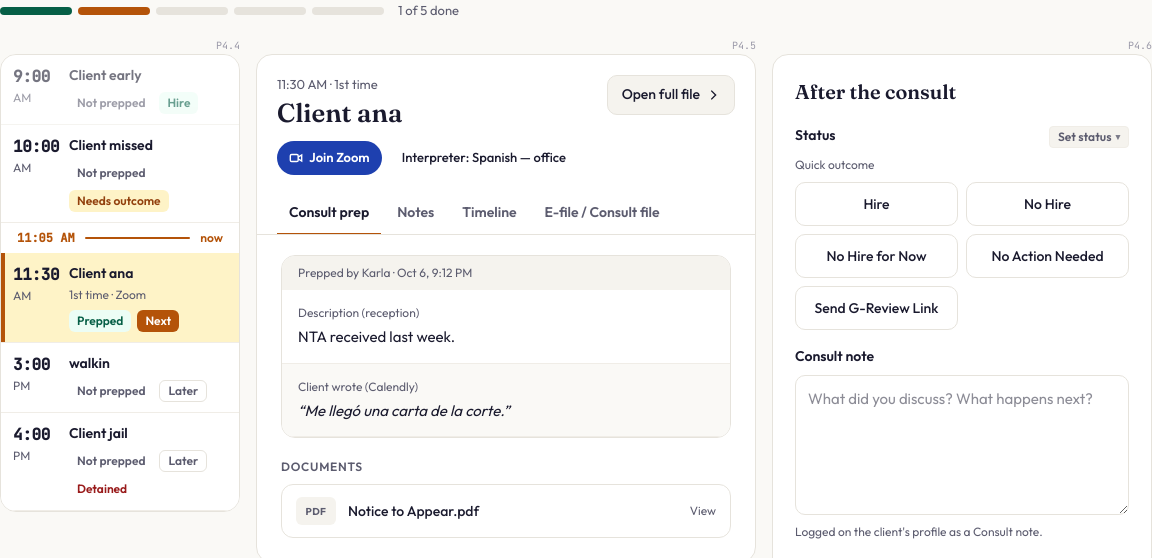
Test: AppointmentsPage (P4 My Day) › explains an appointment with no client profile
The image size is (1152, 558).
Click the button "3:00 PM walkin Not prepped Later" at {"x": 120, "y": 378}, box [1,342,239,412]
(page scrolled)
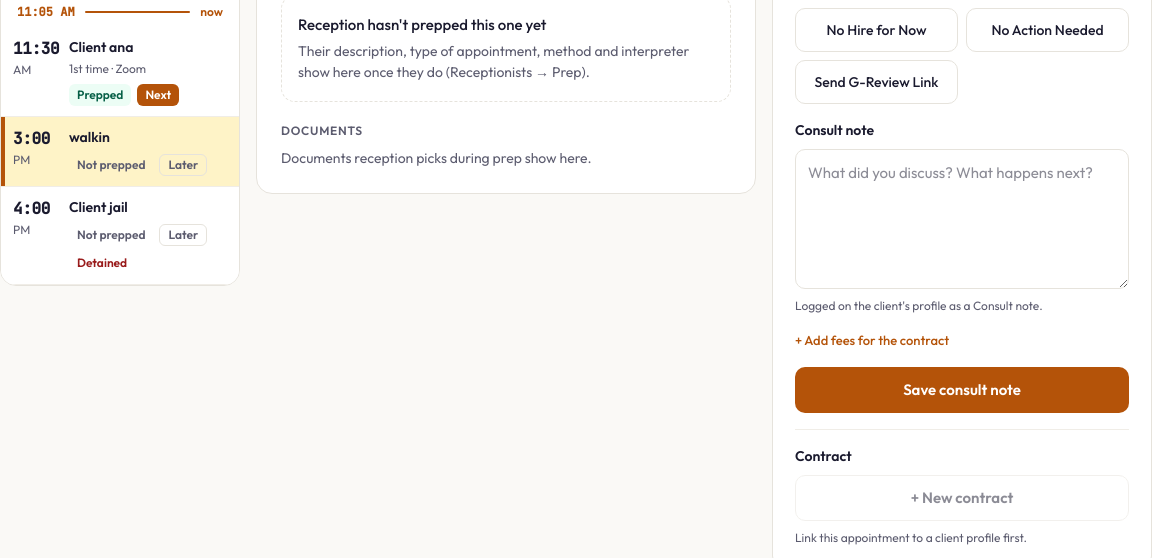
Result: the text "Documents reception picks during prep show here." is shown at [281,149,592,167]
Result: the text "Link this appointment to a client profile first." is shown at [795,530,1027,545]
Result: the button "+ New contract" is disabled at [795,475,1129,521]
